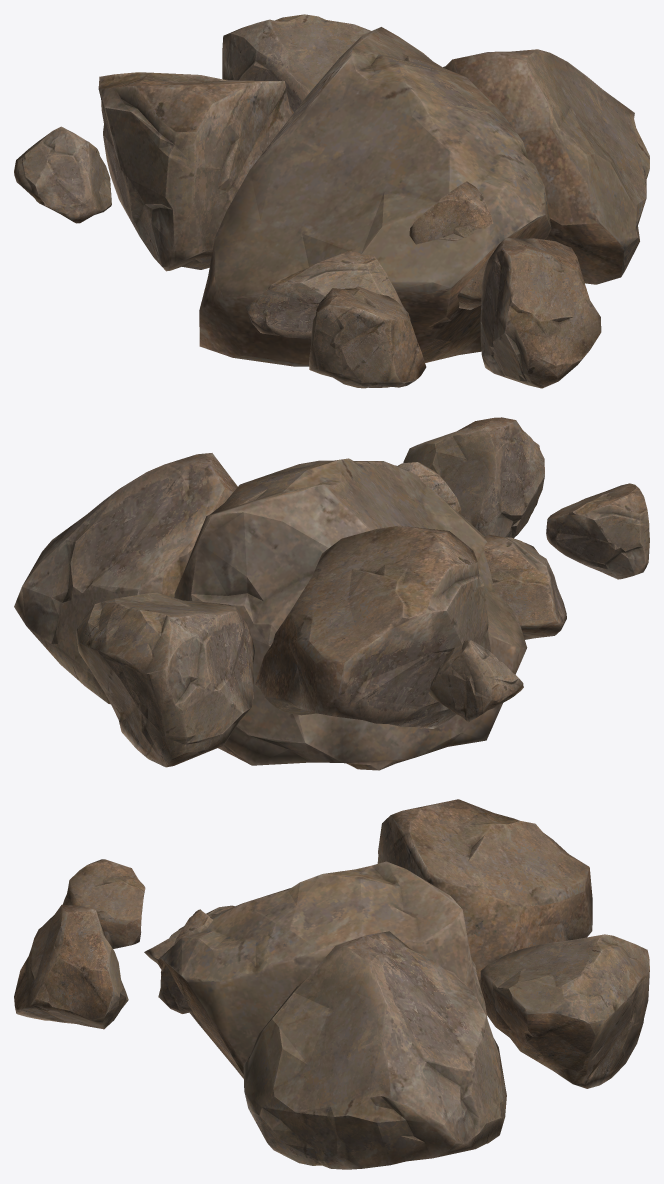
Rendered from stone1.FBX.
The picture shows the model from 3 angles, top to bottom: view 1: azimuth 30°, elevation 25°; view 2: azimuth 150°, elevation 25°; view 3: azimuth 270°, elevation 25°; orthographic projection. The views are drawn at different scales.
Parts seen in each view (by area): view 1: bg_att_stone_dummy02_sm_sup; view 2: bg_att_stone_dummy02_sm_sup; view 3: bg_att_stone_dummy02_sm_sup.
Boxes of the visible parts, x1=… form: bg_att_stone_dummy02_sm_sup: x1=14, y1=14, x2=649, y2=388; bg_att_stone_dummy02_sm_sup: x1=14, y1=417, x2=649, y2=770; bg_att_stone_dummy02_sm_sup: x1=14, y1=799, x2=649, y2=1169.
Bounding box in the file's own units: 181 × 85.1 × 201.
